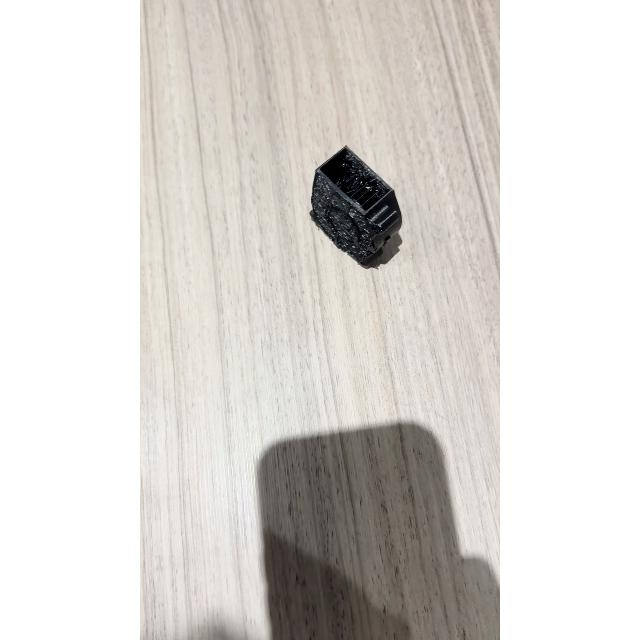Pieza_3: (296, 140, 414, 284)
